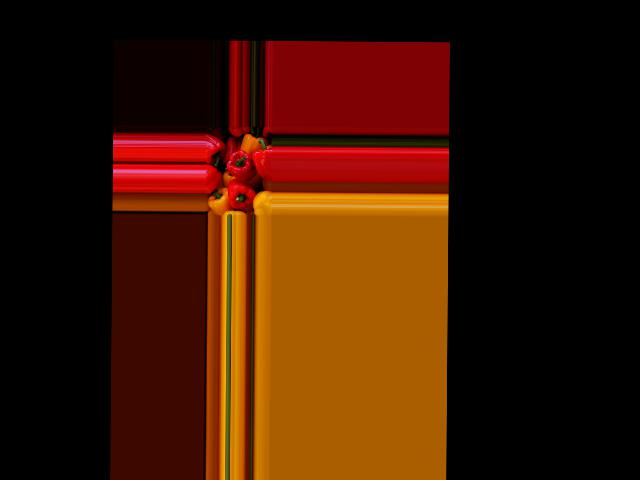bell_pepper: (210, 190, 232, 215)
